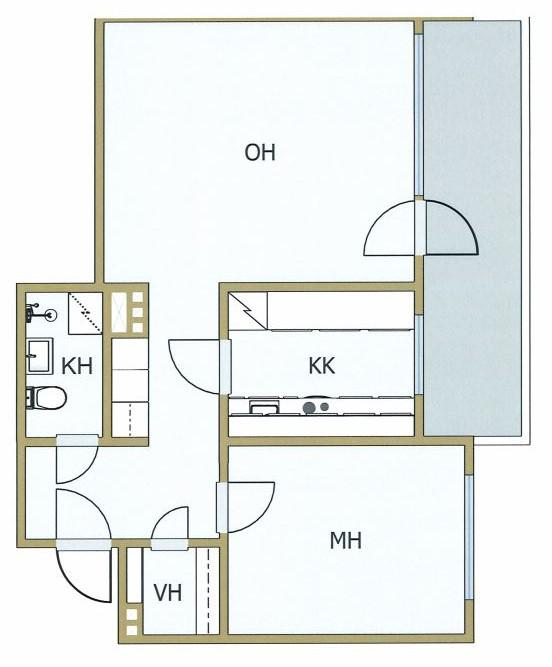bathroom: (25, 292, 103, 443)
door: (412, 196, 484, 261), (52, 486, 115, 553), (165, 336, 234, 396), (54, 538, 116, 603), (361, 198, 425, 259), (212, 481, 279, 535), (53, 432, 99, 484), (144, 503, 193, 550)
perimeter: (14, 16, 476, 646)
window: (408, 29, 429, 201), (461, 468, 477, 607), (411, 307, 427, 402)
